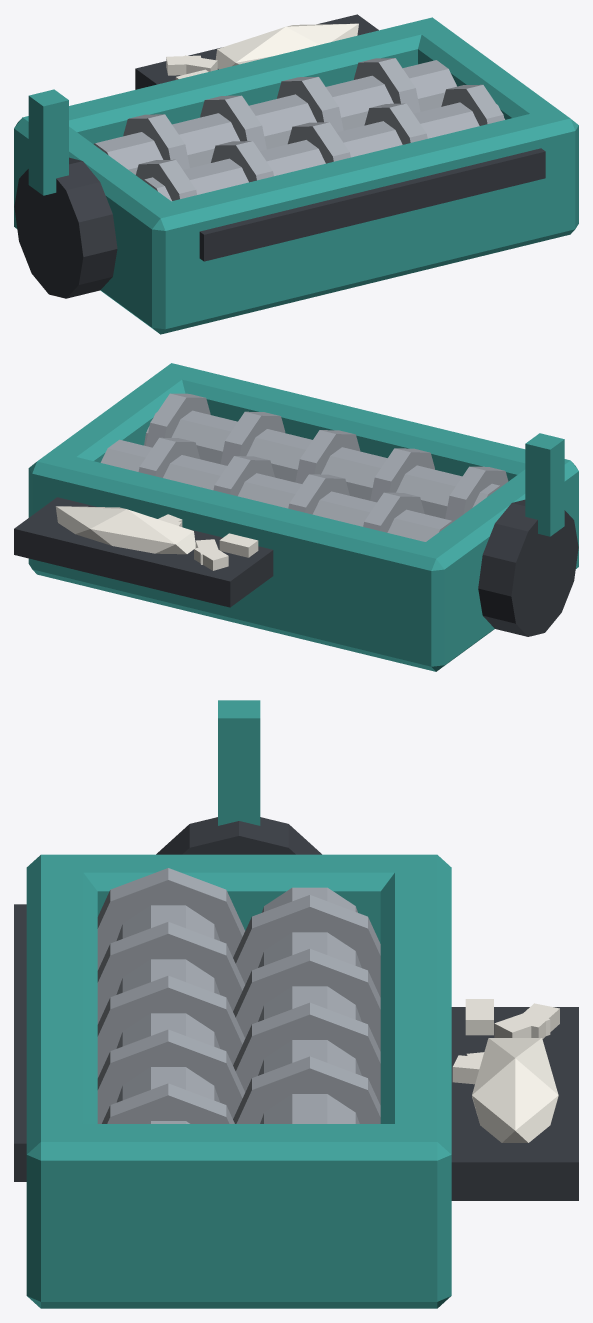
Rendered from shredder_m0_2.glb.
3 views of the same model, one above another, from view 1: azimuth 30°, elevation 25°; view 2: azimuth 150°, elevation 25°; view 3: azimuth 270°, elevation 25° (orthographic). The views are drawn at different scales.
Visible parts, largest first — view 1: shredder_m0_2_mesh; view 2: shredder_m0_2_mesh; view 3: shredder_m0_2_mesh.
Part boxes in pixels (x1,y1,x2,y2): shredder_m0_2_mesh: [14, 14, 578, 334]; shredder_m0_2_mesh: [14, 363, 578, 671]; shredder_m0_2_mesh: [14, 700, 578, 1308].
Bounding box in the file's own units: 0.555 × 0.22 × 0.399.
